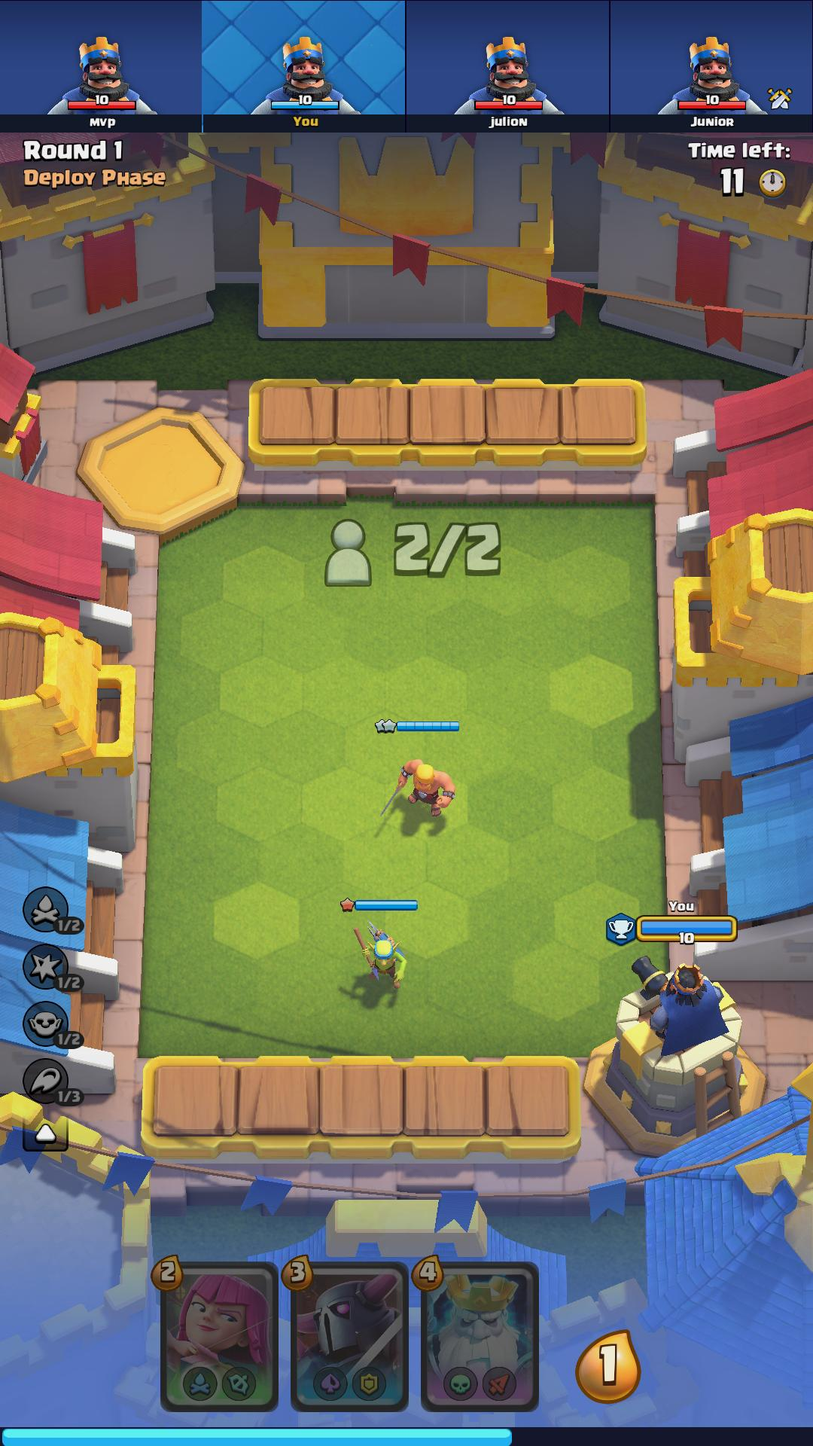barbarian: (367, 744, 468, 824)
hand-archer: (161, 1262, 276, 1404)
hand-ghost: (422, 1264, 538, 1412)
hand-pekka: (290, 1265, 405, 1408)
spear: (326, 919, 427, 992)
